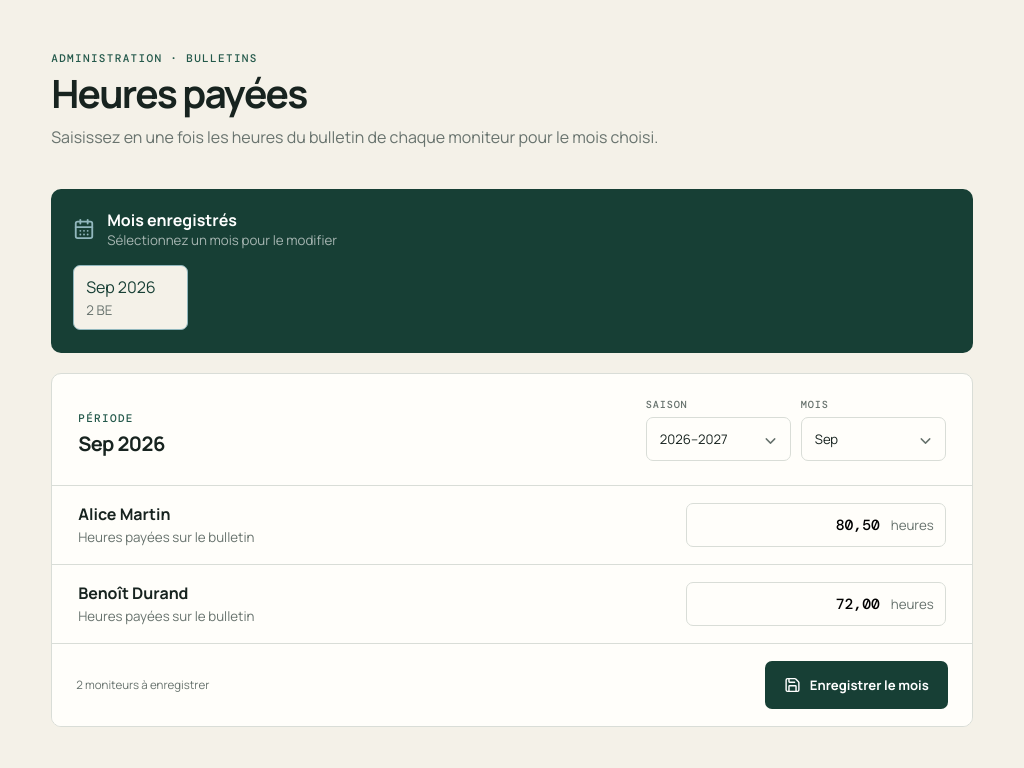
Test case: PayrollEntryPage › blocks invalid values before they reach the database
Replace the text in the field named "Heures payées pour Alice Martin" with "-1" at (816, 525), box left=686, top=503, right=946, bottom=547
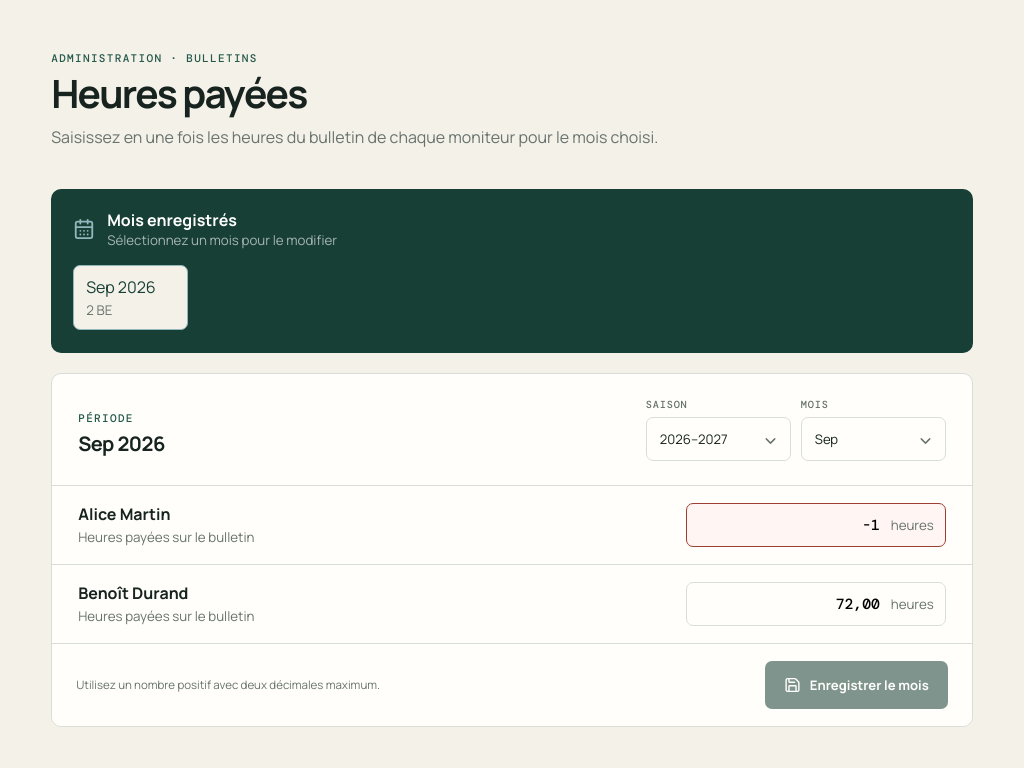
Expected: the button "Enregistrer le mois" is disabled, left=765, top=661, right=948, bottom=709
Expected: the text "Utilisez un nombre positif avec deux décimales maximum." is shown, left=76, top=677, right=380, bottom=692
